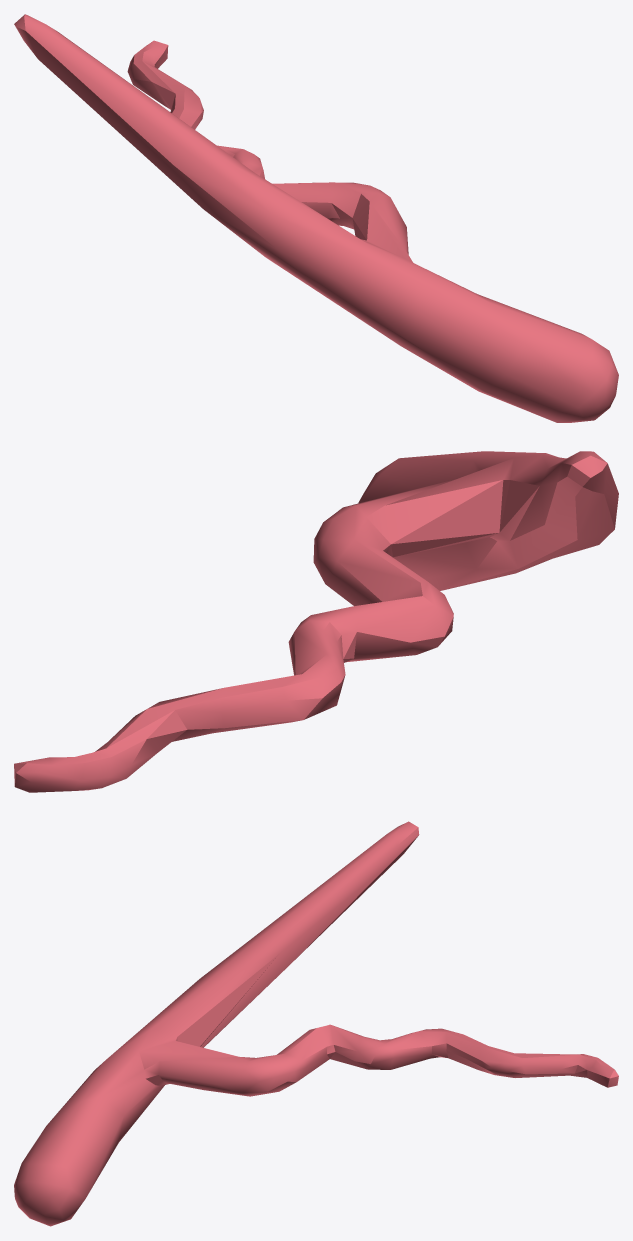
The model's file is fma3892_fj2732.glb.
3 views of the same model, one above another, from view 1: azimuth 30°, elevation 25°; view 2: azimuth 150°, elevation 25°; view 3: azimuth 270°, elevation 25° (orthographic). The views are drawn at different scales.
Visible parts, largest first — view 1: FMA3892_FJ2732; view 2: FMA3892_FJ2732; view 3: FMA3892_FJ2732.
Boxes of the visible parts, bbox=[...] form: FMA3892_FJ2732: bbox=[14, 14, 618, 422]; FMA3892_FJ2732: bbox=[14, 451, 618, 792]; FMA3892_FJ2732: bbox=[14, 821, 618, 1226].
Bounding box in the file's own units: 0.00972 × 0.00803 × 0.0164.
